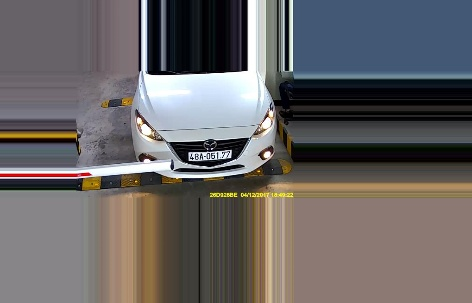plate: (187, 147, 231, 162)
